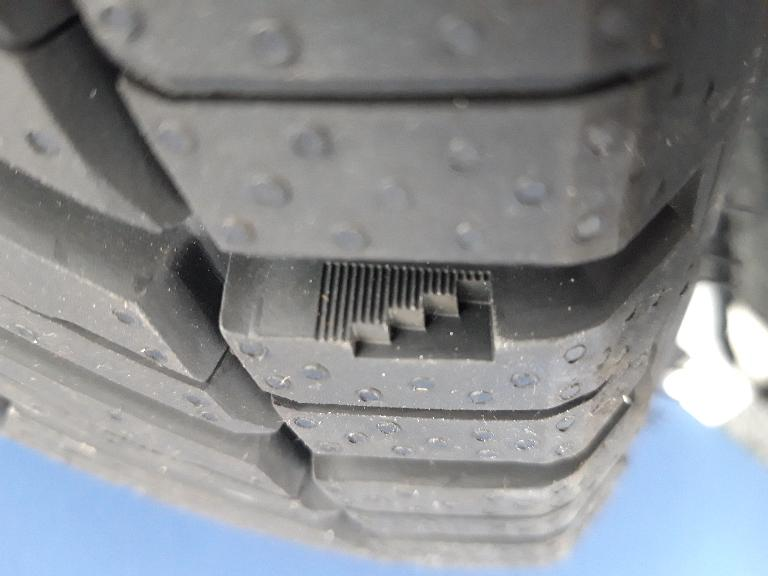temoin:100: (307, 252, 511, 373)
